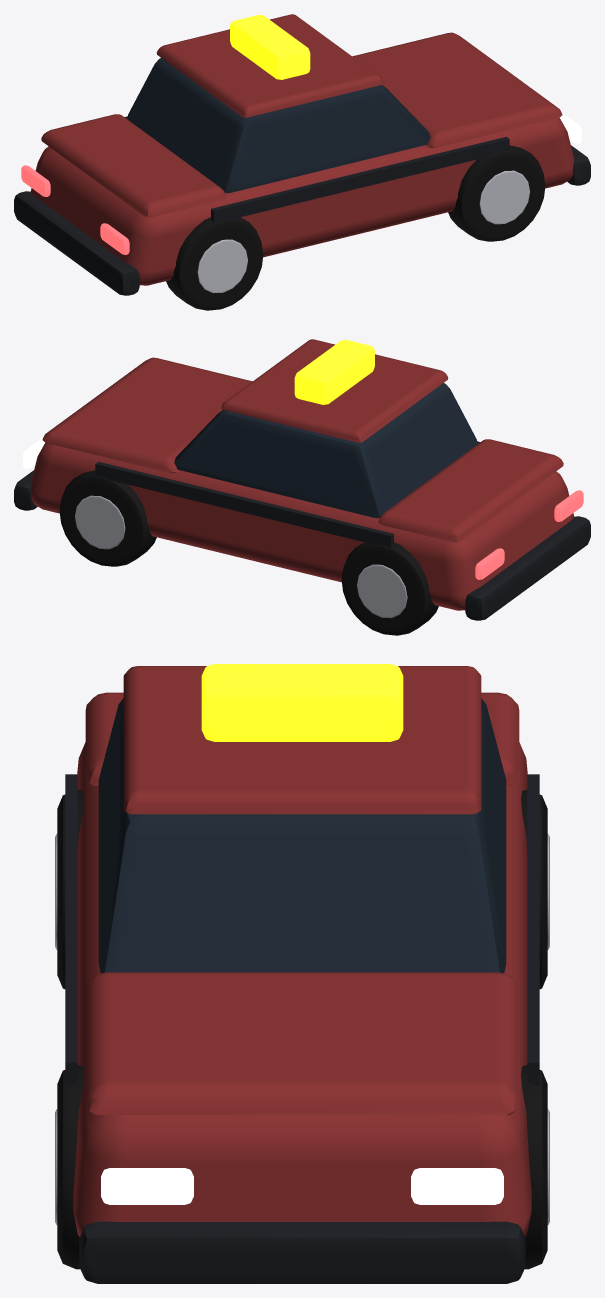
Rendered from taxi.glb.
3 renders of one model, top to bottom at view 1: azimuth 30°, elevation 25°; view 2: azimuth 150°, elevation 25°; view 3: azimuth 270°, elevation 25°, orthographic. The views are drawn at different scales.
Visible parts, largest first — view 1: body, cabin, hood, roof, trunk, checker--1, wheel--10--1-tyre, wheel-+10--1-tyre, bumper-rear, taxi-sign, wheel--10--1-hub, wheel-+10--1-hub (+3 smaller); view 2: body, cabin, hood, roof, trunk, checker-1, wheel--10-1-tyre, wheel-+10-1-tyre, bumper-rear, taxi-sign, wheel--10-1-hub, wheel-+10-1-hub (+3 smaller); view 3: cabin, hood, body, roof, bumper-front, taxi-sign, trunk, checker-1, checker--1, wheel-+10-1-tyre, wheel-+10--1-tyre, headlight-1 (+3 smaller).
Part boxes in pixels (left/top/right/bottom): body: left=30, top=117, right=574, bottom=285; cabin: left=127, top=58, right=430, bottom=193; hood: left=352, top=32, right=562, bottom=148; roof: left=156, top=14, right=383, bottom=117; trunk: left=41, top=114, right=226, bottom=217; checker--1: left=211, top=136, right=509, bottom=222; wheel--10--1-tyre: left=166, top=217, right=263, bottom=310; wheel-+10--1-tyre: left=448, top=145, right=545, bottom=241; bumper-rear: left=14, top=191, right=139, bottom=295; taxi-sign: left=230, top=15, right=310, bottom=79; wheel--10--1-hub: left=197, top=239, right=247, bottom=293; wheel-+10--1-hub: left=479, top=170, right=529, bottom=224; body: left=30, top=442, right=574, bottom=610; cabin: left=174, top=383, right=477, bottom=518; hood: left=42, top=357, right=252, bottom=473; roof: left=221, top=339, right=448, bottom=442; trunk: left=378, top=439, right=563, bottom=542; checker-1: left=95, top=461, right=393, bottom=547; wheel--10-1-tyre: left=341, top=542, right=438, bottom=635; wheel-+10-1-tyre: left=59, top=470, right=156, bottom=566; bumper-rear: left=465, top=516, right=590, bottom=620; taxi-sign: left=294, top=340, right=374, bottom=404; wheel--10-1-hub: left=357, top=564, right=407, bottom=618; wheel-+10-1-hub: left=75, top=495, right=125, bottom=549; cabin: left=98, top=698, right=506, bottom=973; hood: left=86, top=972, right=518, bottom=1114; body: left=73, top=742, right=531, bottom=1236; roof: left=123, top=666, right=481, bottom=814; bumper-front: left=79, top=1221, right=525, bottom=1283; taxi-sign: left=201, top=664, right=403, bottom=741; trunk: left=85, top=692, right=519, bottom=785; checker-1: left=527, top=774, right=539, bottom=1086; checker--1: left=65, top=774, right=77, bottom=1086; wheel-+10-1-tyre: left=521, top=1065, right=547, bottom=1269; wheel-+10--1-tyre: left=57, top=1065, right=83, bottom=1269; headlight-1: left=411, top=1168, right=503, bottom=1204.
Bounding box in the file's own units: 35.2 × 14.75 × 15.96.
